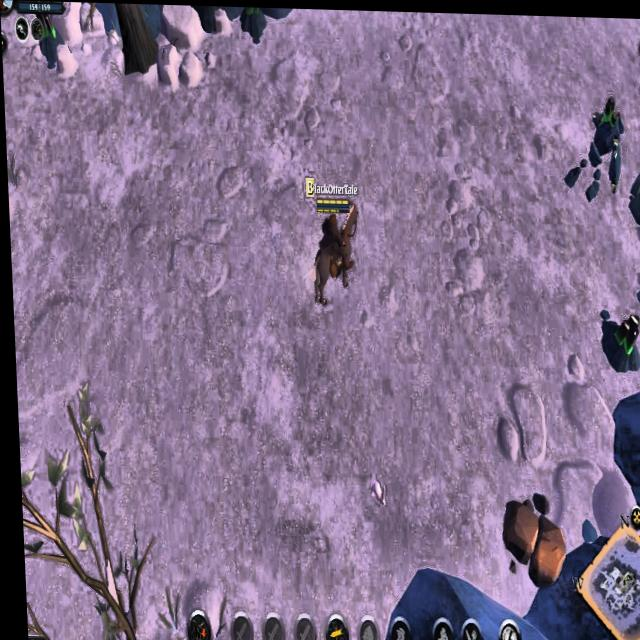limestone: (493, 484, 563, 580)
sandstone: (626, 152, 640, 246)
tinore: (597, 300, 640, 369), (30, 4, 69, 66), (237, 6, 269, 36)
